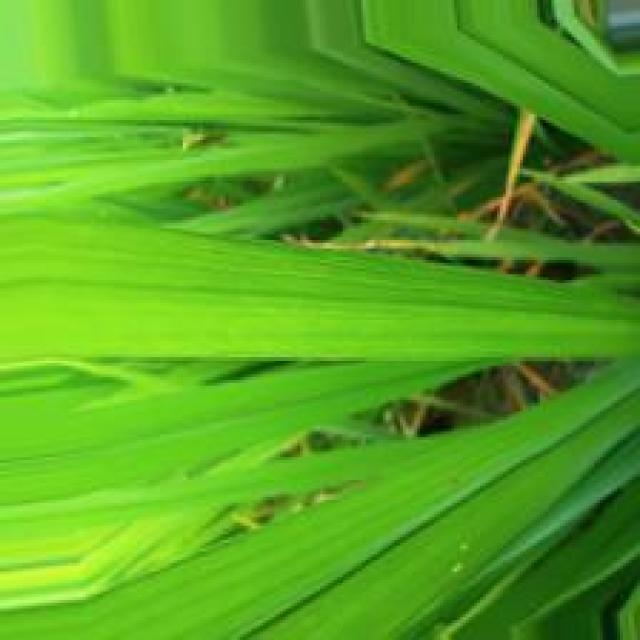HealthyLeaf: (90, 371, 636, 640), (69, 226, 592, 355)
